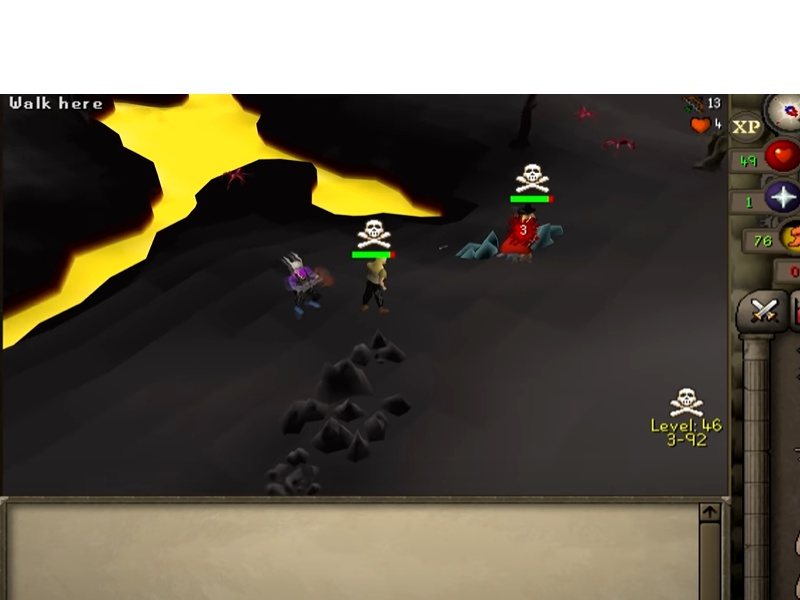rune: (451, 228, 500, 260), (531, 221, 567, 251)
